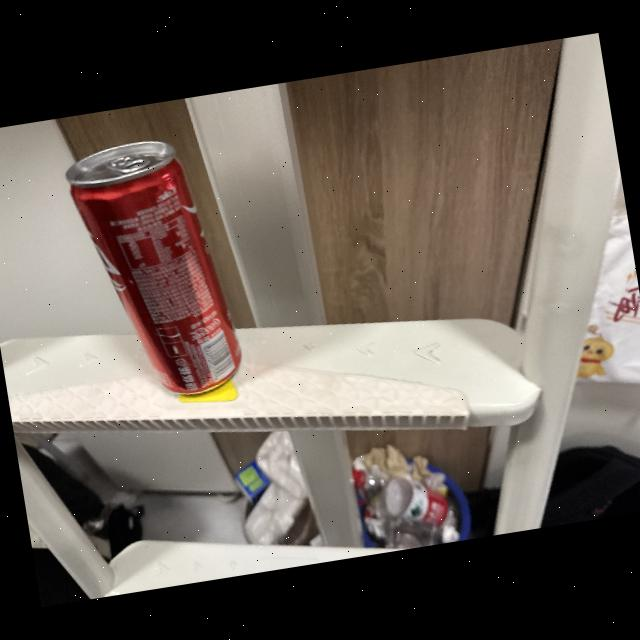Cola: (50, 124, 252, 418)
